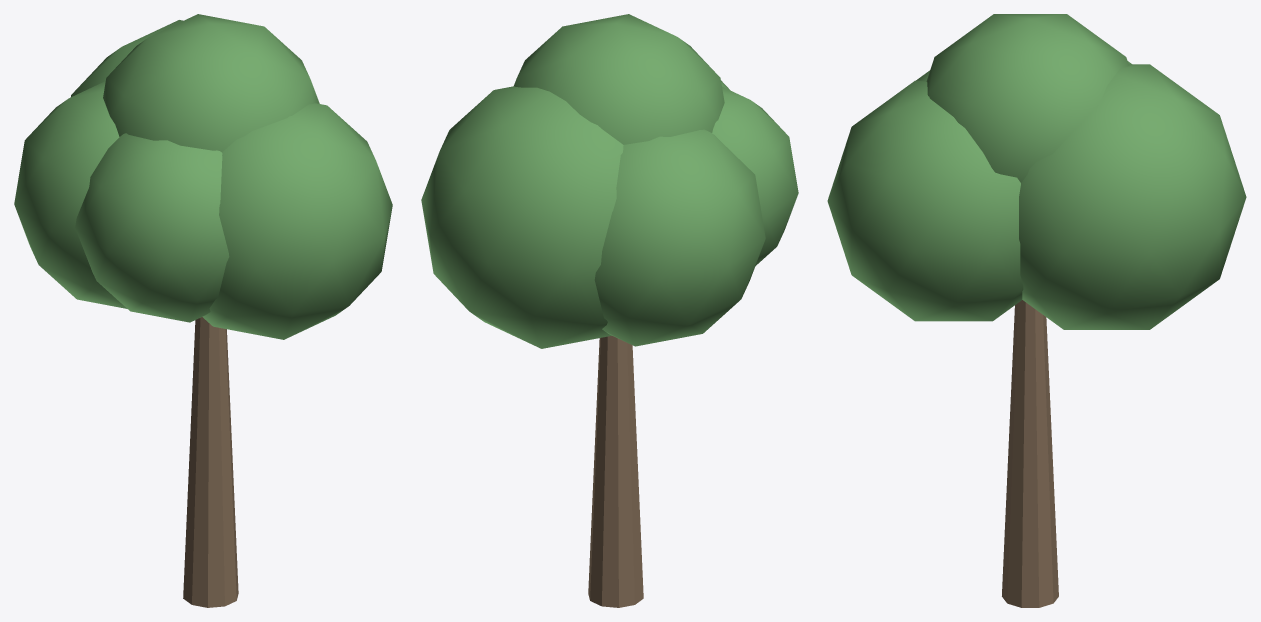
The model's file is tree.glb.
The picture shows the model from 3 angles, left to right: view 1: azimuth 30°, elevation 25°; view 2: azimuth 150°, elevation 25°; view 3: azimuth 270°, elevation 25°; orthographic projection.
Parts seen in each view (by area): view 1: Icosphere.004, Icosphere.003, Icosphere, Icosphere.002, Cone, Icosphere.001; view 2: Icosphere.001, Icosphere.002, Icosphere, Cone, Icosphere.003; view 3: Icosphere.001, Icosphere.004, Icosphere, Cone.
Part boxes in pixels (x1=…): Icosphere.004: x1=202, y1=103, x2=392, y2=339; Icosphere.003: x1=75, y1=133, x2=229, y2=322; Icosphere: x1=103, y1=14, x2=319, y2=152; Icosphere.002: x1=14, y1=81, x2=126, y2=308; Cone: x1=183, y1=317, x2=238, y2=607; Icosphere.001: x1=71, y1=20, x2=182, y2=96; Icosphere.001: x1=421, y1=86, x2=623, y2=348; Icosphere.002: x1=594, y1=129, x2=765, y2=346; Icosphere: x1=514, y1=14, x2=724, y2=144; Cone: x1=588, y1=336, x2=643, y2=607; Icosphere.003: x1=712, y1=86, x2=798, y2=265; Icosphere.001: x1=1019, y1=64, x2=1246, y2=329; Icosphere.004: x1=827, y1=80, x2=1023, y2=321; Icosphere: x1=926, y1=14, x2=1128, y2=182; Cone: x1=1002, y1=300, x2=1058, y2=607.
Size of the model in its own units: 1.89 by 3.56 by 2.34.
